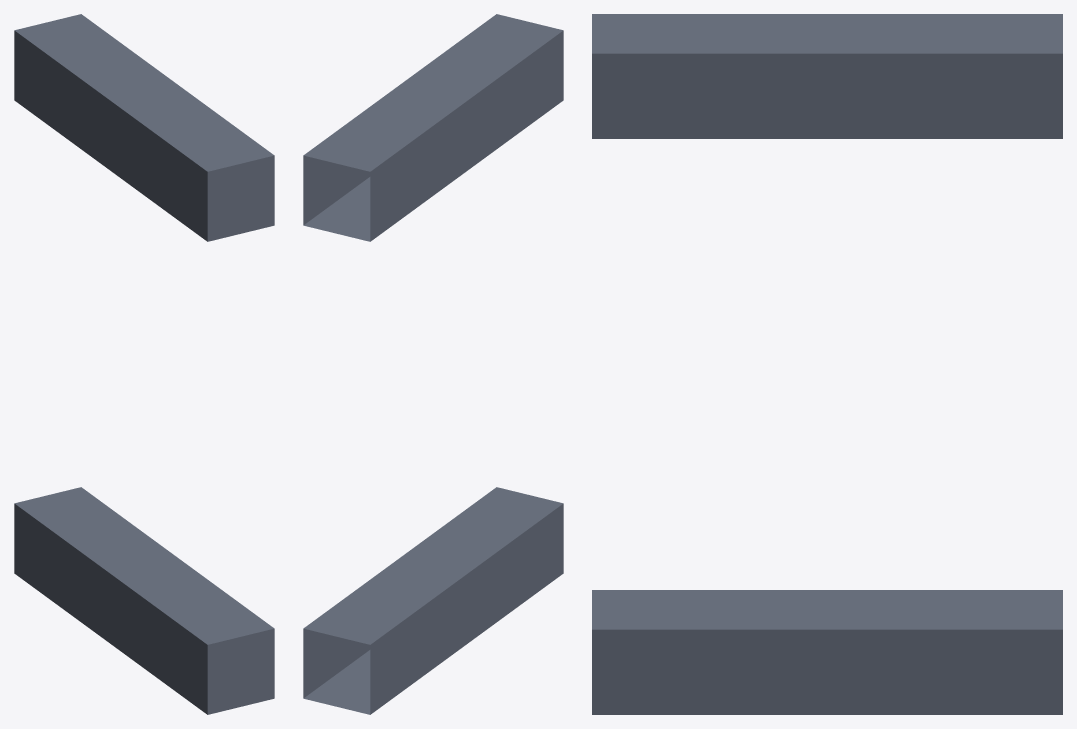
File: pillar_south.glb
3 renders of one model, left to right at view 1: azimuth 30°, elevation 25°; view 2: azimuth 150°, elevation 25°; view 3: azimuth 270°, elevation 25°, orthographic. The views are drawn at different scales.
Parts seen in each view (by area): view 1: bridge_12_pillar_south; view 2: bridge_12_pillar_south; view 3: bridge_12_pillar_south.
Boxes of the visible parts, x1=… form: bridge_12_pillar_south: x1=14, y1=14, x2=274, y2=714; bridge_12_pillar_south: x1=303, y1=14, x2=563, y2=714; bridge_12_pillar_south: x1=592, y1=14, x2=1062, y2=714.
Size of the model in its own units: 1.6 by 12.4 by 8.
